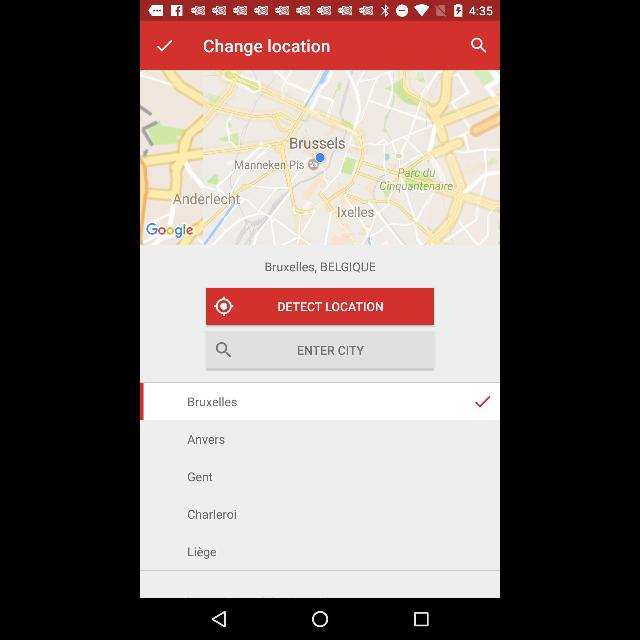checkbox: (472, 392, 493, 410)
icon: (213, 296, 234, 318), (469, 36, 486, 56), (214, 341, 232, 357), (312, 610, 328, 628), (413, 612, 429, 628), (212, 612, 226, 628), (156, 40, 172, 52)
input: (205, 330, 432, 368)
map: (140, 70, 500, 246)
panel: (141, 22, 499, 68), (142, 599, 498, 639)
text: (200, 38, 332, 58), (262, 254, 378, 276), (293, 339, 372, 361), (279, 301, 385, 313), (188, 396, 238, 408), (187, 509, 237, 521), (188, 434, 226, 446), (188, 546, 216, 560), (187, 471, 213, 483)
textbutton: (209, 289, 431, 323)
uppertaskbar: (142, 2, 500, 22)
